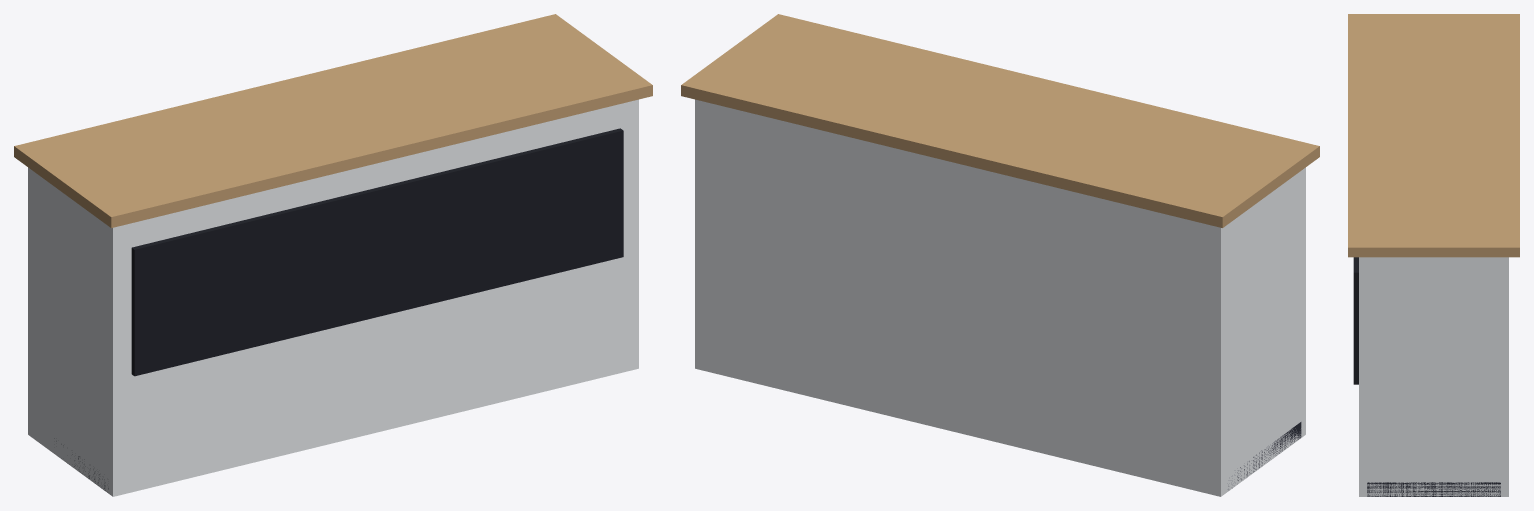
The model's file is evt-007.glb.
The picture shows the model from 3 angles, left to right: view 1: azimuth 30°, elevation 25°; view 2: azimuth 150°, elevation 25°; view 3: azimuth 270°, elevation 25°; orthographic projection. The views are drawn at different scales.
Parts seen in each view (by area): view 1: white, sign_panel, oak; view 2: white, oak; view 3: oak, white, plastic_dark, sign_panel.
Part boxes in pixels (box(x1,y1,x2,y2)): white: box(28, 99, 638, 496); sign_panel: box(131, 128, 623, 376); oak: box(14, 14, 652, 227); white: box(695, 99, 1305, 496); oak: box(681, 14, 1319, 227); oak: box(1348, 14, 1519, 257); white: box(1359, 257, 1508, 496); plastic_dark: box(1367, 482, 1500, 496); sign_panel: box(1353, 257, 1358, 384).
Bounding box in the file's own units: 2.06 × 1.04 × 0.64.
